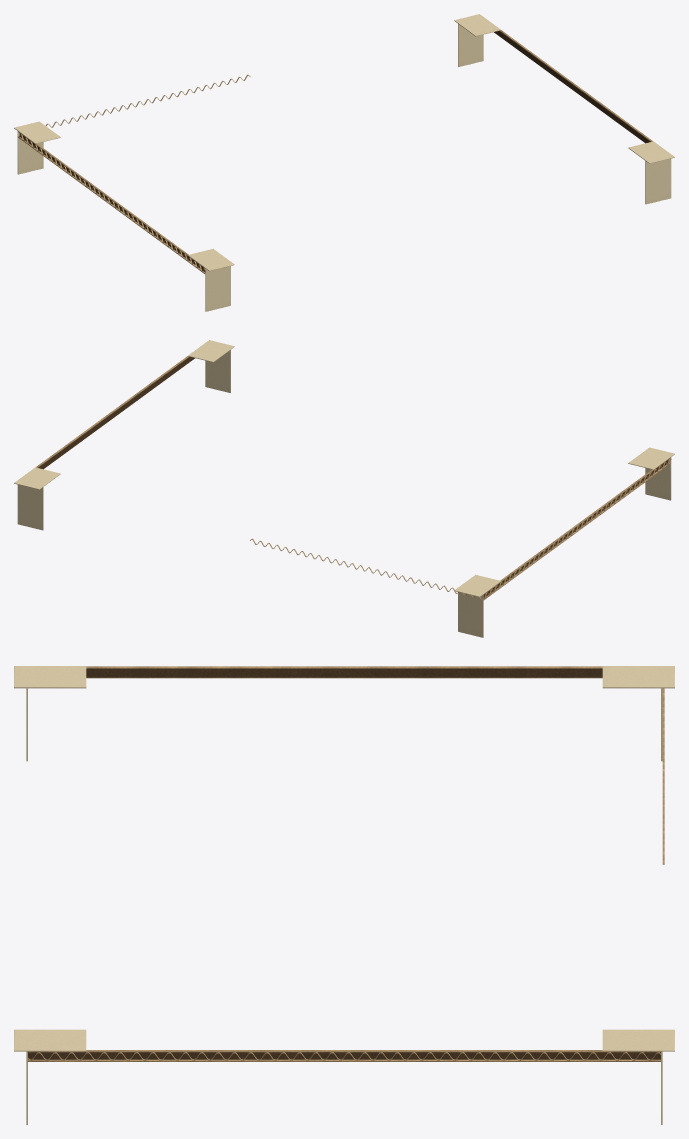
Rendered from 5-open-chalk-roof-tray-2.fbx.
3 views of the same model, one above another, from view 1: azimuth 30°, elevation 25°; view 2: azimuth 150°, elevation 25°; view 3: azimuth 270°, elevation 25° (orthographic). The views are drawn at different scales.
Parts seen in each view (by area): view 1: open-chalk-roof-tray-2; view 2: open-chalk-roof-tray-2; view 3: open-chalk-roof-tray-2.
Boxes of the visible parts, x1,y1,x2,y2 form: open-chalk-roof-tray-2: (14, 14, 674, 311); open-chalk-roof-tray-2: (14, 340, 674, 637); open-chalk-roof-tray-2: (14, 666, 674, 1124).
Bounding box in the file's own units: 10072 × 908 × 7300.
1 material, 1 textured.
